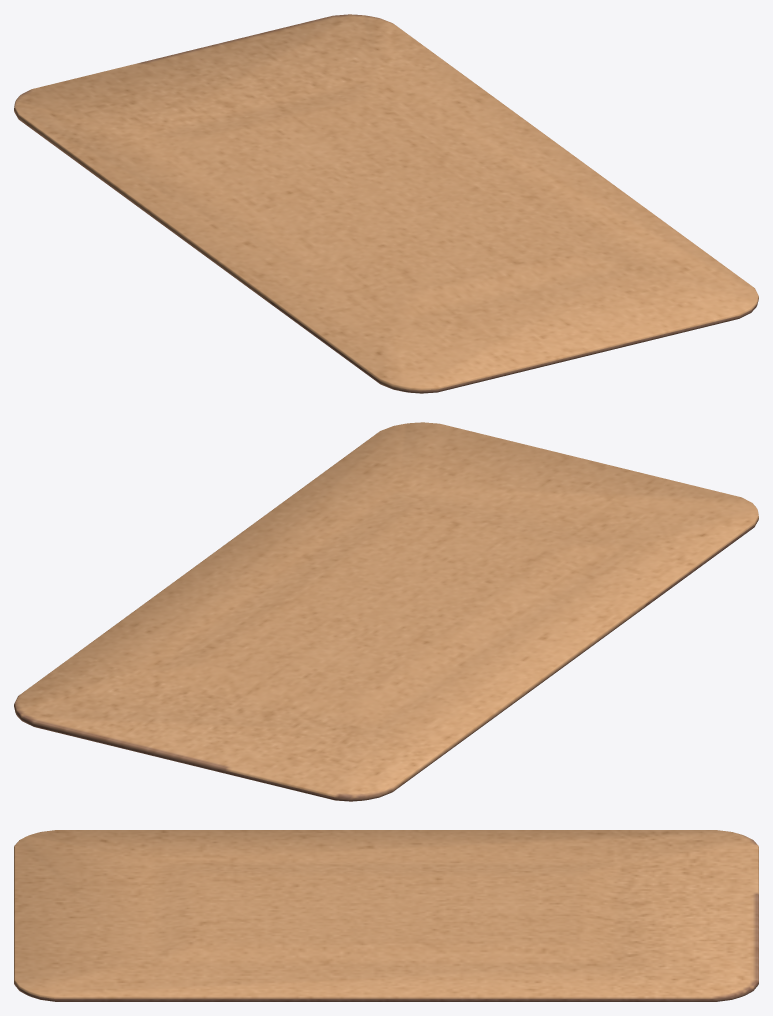
Rendered from Plaster_Medium.fbx.
3 views of the same model, one above another, from view 1: azimuth 30°, elevation 25°; view 2: azimuth 150°, elevation 25°; view 3: azimuth 270°, elevation 25° (orthographic). The views are drawn at different scales.
Parts seen in each view (by area): view 1: Plaster_Medium; view 2: Plaster_Medium; view 3: Plaster_Medium.
Part boxes in pixels (x1=…): Plaster_Medium: x1=14, y1=14, x2=758, y2=393; Plaster_Medium: x1=14, y1=422, x2=758, y2=801; Plaster_Medium: x1=14, y1=830, x2=758, y2=1001.
Size of the model in its own units: 2.14 by 0.1179 by 4.02.
1 material, 1 textured.
